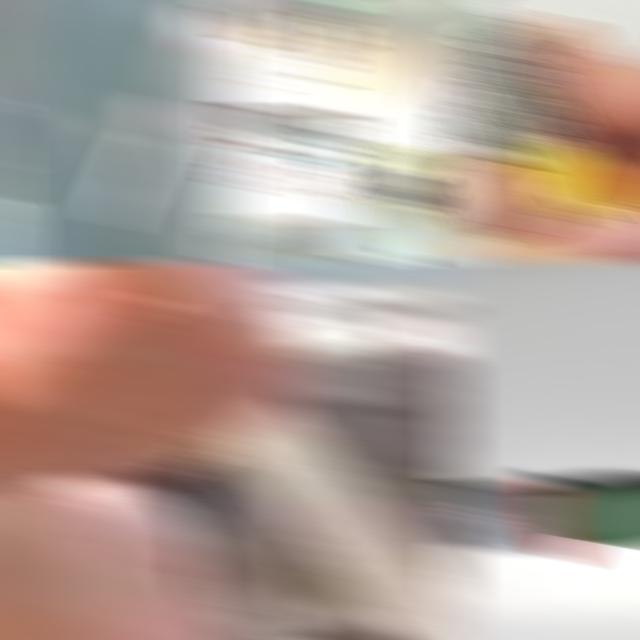Knife: (218, 403, 466, 640), (442, 0, 640, 220), (442, 474, 640, 562)
Knife_Handle: (0, 260, 466, 640), (95, 92, 180, 226)
